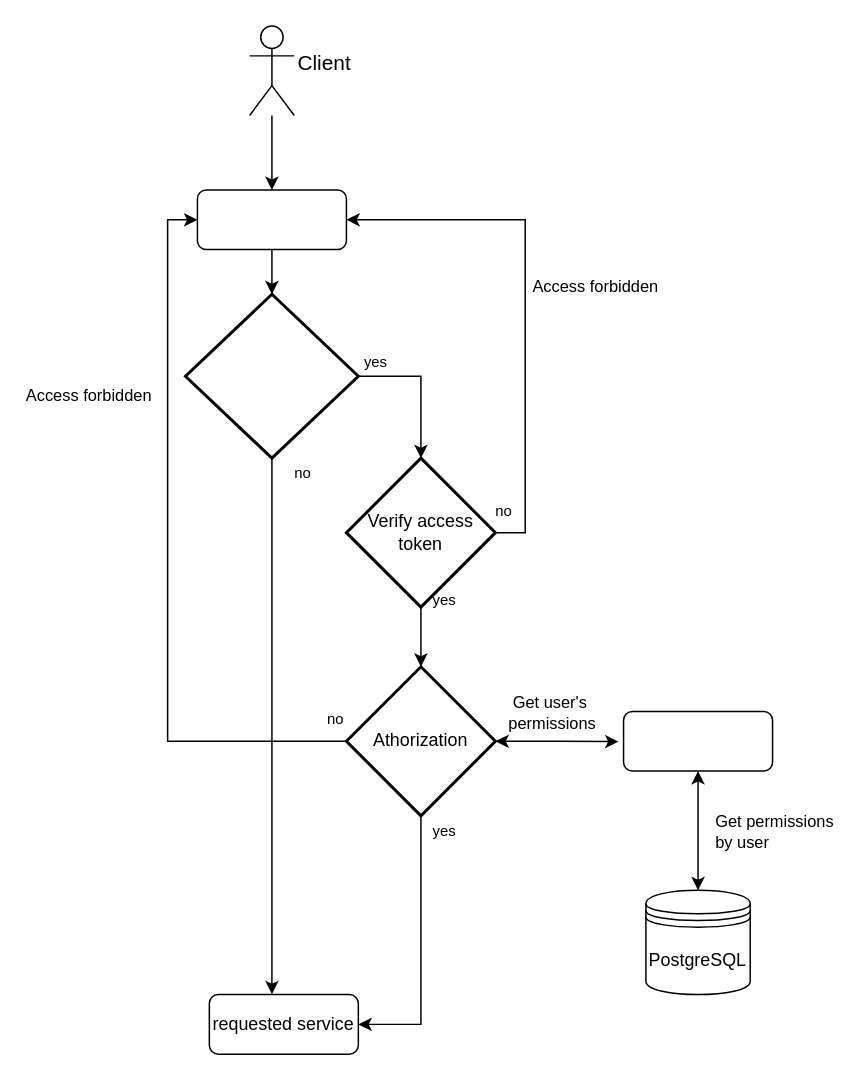
This 860x1080 diagram has some shape labels left out. Each missing label, with the box of its shape:
API Gateway: (196, 188, 346, 250)
auth-access: (622, 710, 773, 771)
check required authentication and authorization: (183, 292, 359, 459)
